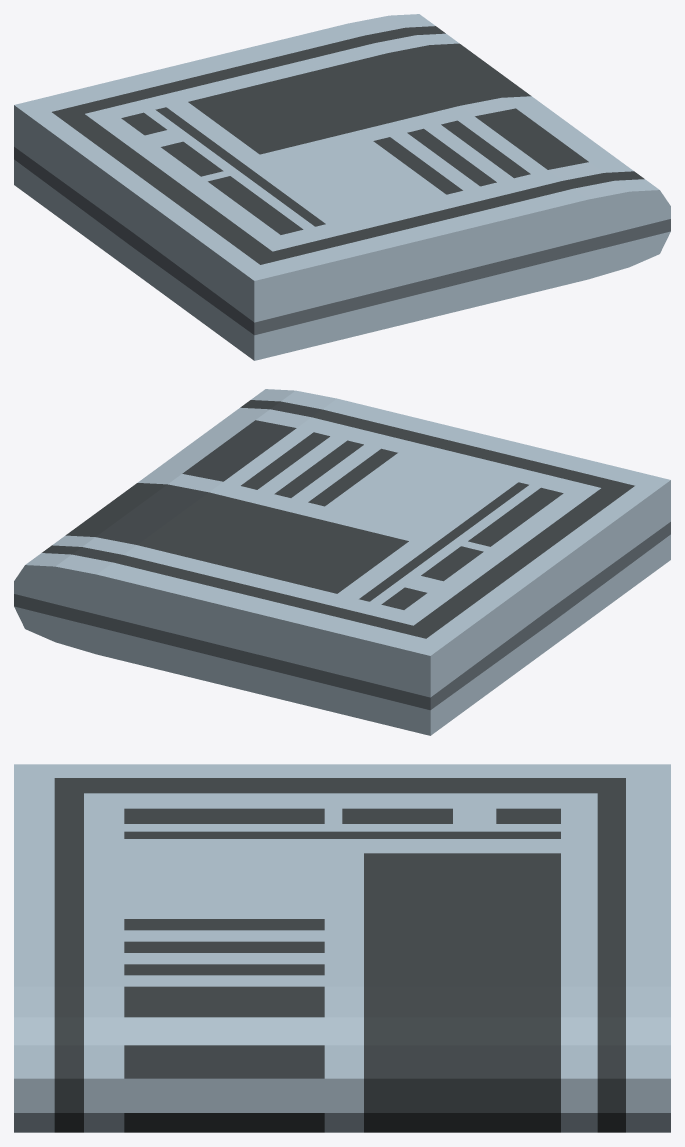
File: Prop_Newspaper.fbx
3 views of the same model, one above another, from view 1: azimuth 30°, elevation 25°; view 2: azimuth 150°, elevation 25°; view 3: azimuth 270°, elevation 25° (orthographic). The views are drawn at different scales.
Visible parts, largest first — view 1: Cube.377; view 2: Cube.377; view 3: Cube.377.
Part boxes in pixels (<box>): Cube.377: <box>14,14,670,360</box>; Cube.377: <box>14,389,670,735</box>; Cube.377: <box>14,764,670,1132</box>.
Bounding box in the file's own units: 41.36 × 7.59 × 41.36.
